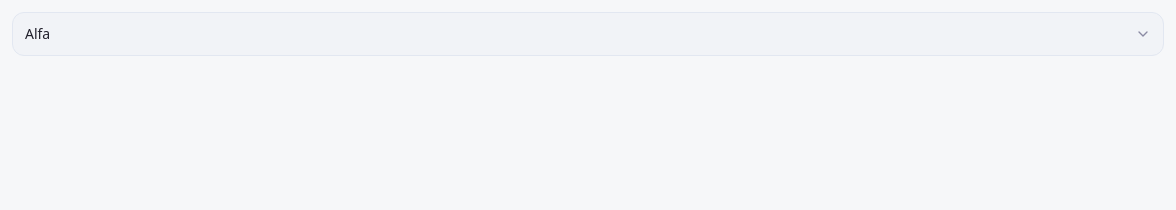
Test: Select › clicar numa opção chama onChange com e.target.value e fecha
Click the dropdown: (38, 34) [12, 12, 1164, 56]
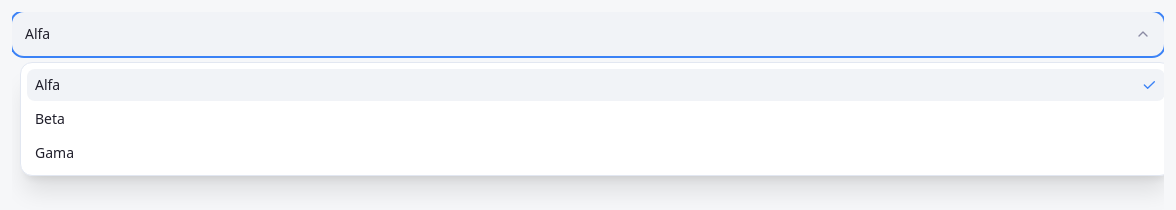
Click the option "Beta": (50, 118) [35, 109, 65, 128]
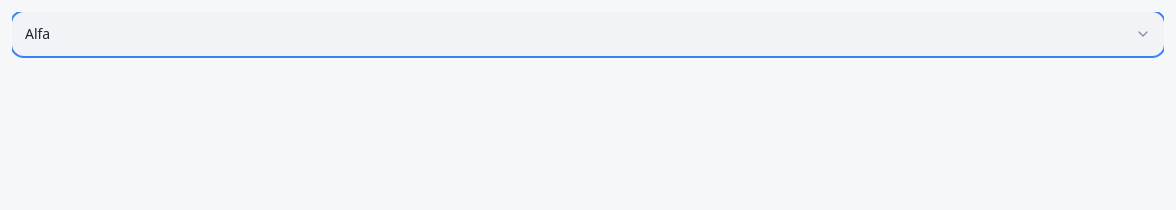
Now the list is gone
Now the dropdown is collapsed, box [12, 12, 1164, 56]
